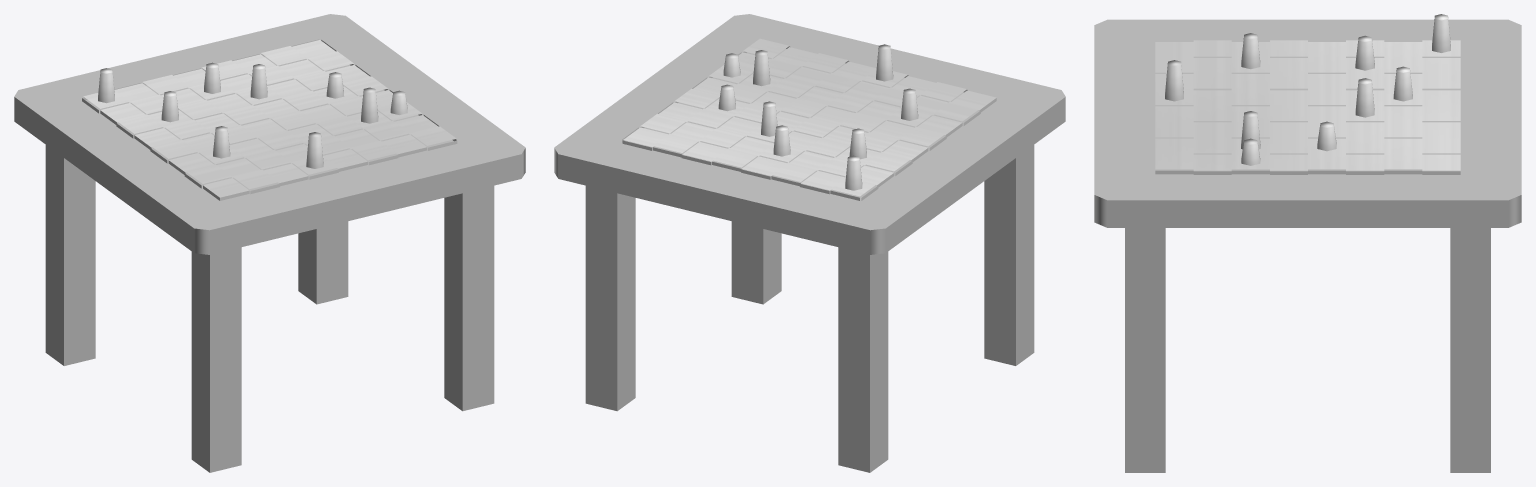
Rendered from chess_table.obj.
The picture shows the model from 3 angles, left to right: view 1: azimuth 30°, elevation 25°; view 2: azimuth 150°, elevation 25°; view 3: azimuth 270°, elevation 25°; orthographic projection. The views are drawn at different scales.
Parts seen in each view (by area): view 1: tabletop, leg_1, leg_3, leg_2, leg_4, board_square_00, board_square_56, board_square_40, board_square_08, board_square_48, board_square_32, board_square_16 (+15 smaller); view 2: tabletop, leg_2, leg_4, leg_1, leg_3, board_square_55, board_square_63, board_square_23, board_square_39, board_square_47, board_square_31, board_square_15 (+15 smaller); view 3: tabletop, leg_3, leg_4, board_square_56, board_square_62, board_square_60, board_square_63, board_square_57, board_square_61, board_square_59, piece_3, board_square_01 (+51 smaller).
Boxes of the visible parts, x1,y1,x2,y2 form: tabletop: [14, 14, 525, 254]; leg_1: [191, 247, 241, 472]; leg_3: [444, 185, 494, 411]; leg_2: [45, 145, 95, 365]; leg_4: [298, 221, 348, 304]; board_square_00: [203, 178, 249, 200]; board_square_56: [410, 126, 457, 150]; board_square_40: [351, 140, 398, 165]; board_square_08: [233, 169, 279, 194]; board_square_48: [382, 134, 427, 157]; board_square_32: [323, 149, 367, 171]; board_square_16: [263, 163, 308, 186]; tabletop: [554, 14, 1065, 254]; leg_2: [838, 247, 888, 472]; leg_4: [585, 185, 635, 411]; leg_1: [984, 145, 1034, 365]; leg_3: [731, 221, 781, 304]; board_square_55: [652, 133, 698, 157]; board_square_63: [622, 127, 667, 150]; board_square_23: [771, 162, 817, 186]; board_square_39: [712, 148, 758, 171]; board_square_47: [681, 142, 727, 165]; board_square_31: [741, 156, 786, 179]; board_square_15: [800, 171, 845, 194]; tabletop: [1094, 19, 1521, 227]; leg_3: [1125, 228, 1165, 472]; leg_4: [1450, 228, 1490, 472]; board_square_56: [1155, 153, 1193, 174]; board_square_62: [1384, 153, 1422, 174]; board_square_60: [1308, 153, 1345, 174]; board_square_63: [1422, 154, 1460, 174]; board_square_57: [1193, 154, 1231, 174]; board_square_61: [1346, 154, 1384, 174]; board_square_59: [1270, 154, 1307, 174]; piece_3: [1165, 60, 1183, 101]; board_square_01: [1193, 40, 1231, 56].
Size of the model in its own units: 0.84 by 0.704 by 0.84.
